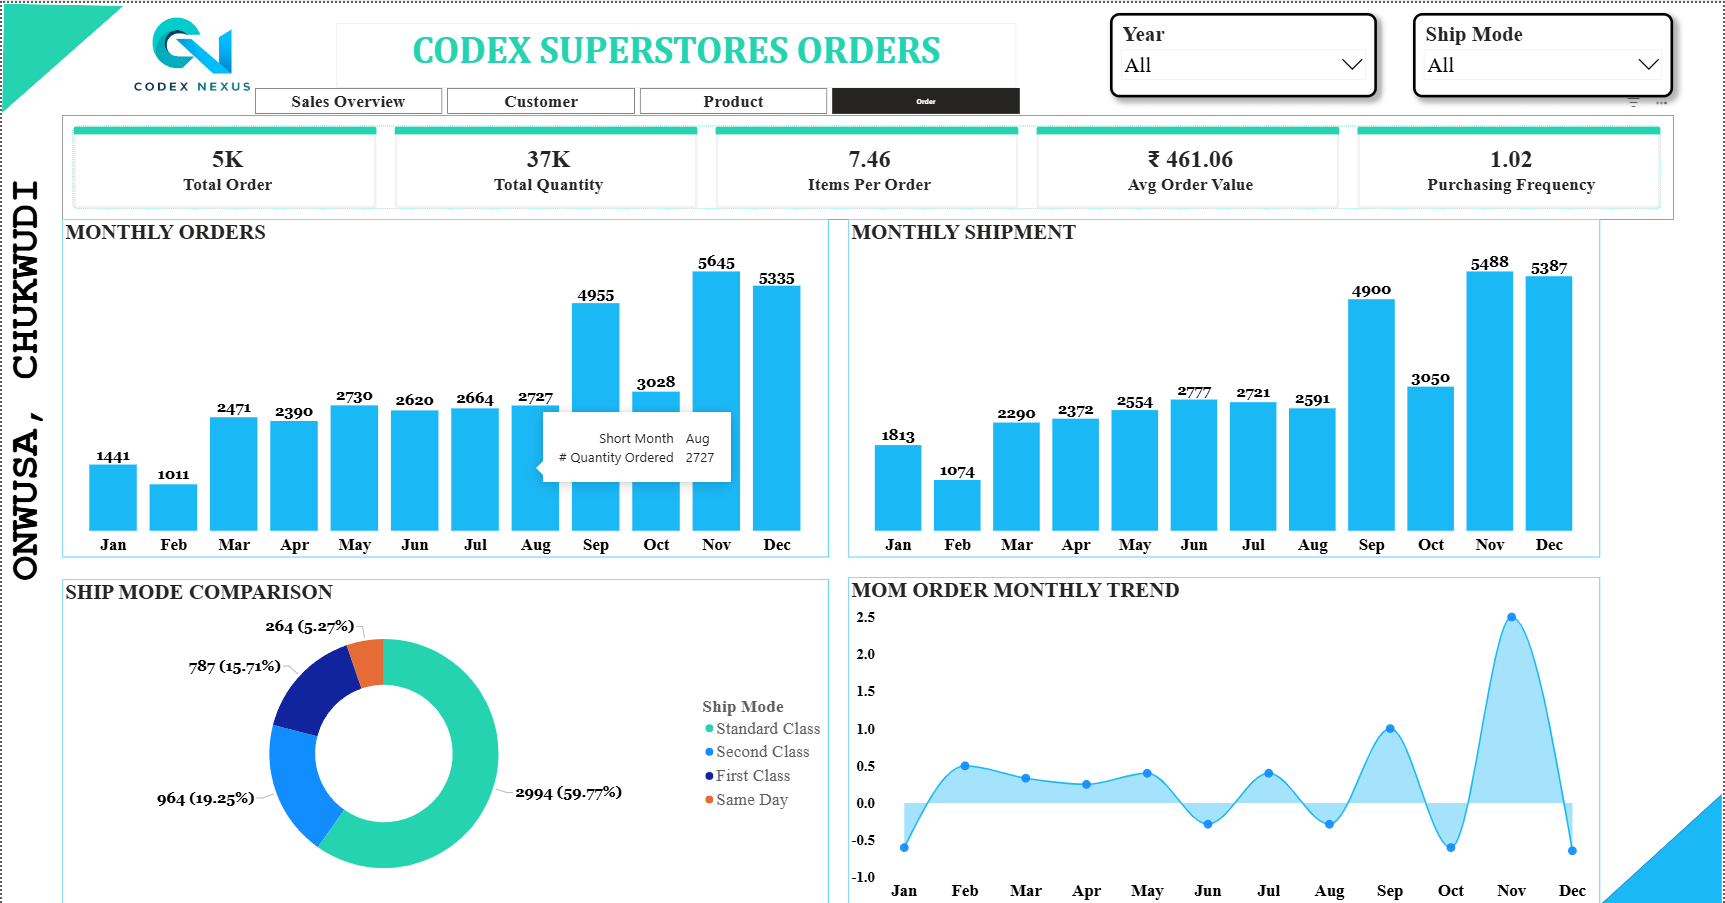

This screenshot's page, from the dashboard's own definition file:
{"tool":"powerbi","page":{"name":"Order","canvas":[3280,1720],"ordinal":3},"visuals":[{"type":"shape","box":[0,0,232.2,211.3],"z":0},{"type":"shape","box":[3047.8,1509,232.2,211.3],"z":1000},{"type":"shape","box":[0,199.4,87.2,1034.3],"z":2000},{"type":"textbox","box":[636.1,37.2,1297.1,124.1],"z":3000},{"type":"image","box":[232.2,0,250,199.4],"z":4000},{"type":"cardVisual","fields":{"Data":["My Measure.Total Order","My Measure.Total Quantity","My Measure.Items Per Order","My Measure.Avg Order Value","My Measure.Purchasing Frequency"]},"box":[114.6,213,3073,201],"z":5000},{"type":"clusteredColumnChart","title":"MONTHLY ORDERS","fields":{"Category":["Date Table.Short Month"],"Y":["My Measure.# Quantity Ordered"]},"box":[114.8,412.7,1461.6,645.4],"z":6000},{"type":"donutChart","title":"SHIP MODE COMPARISON","fields":{"Category":["dimOrder.Ship Mode"],"Y":["CountNonNull(dimOrder.Ship Mode)"]},"box":[114.8,1098.5,1461.6,620.6],"z":7000},{"type":"slicer","fields":{"Values":["Date Table.Year"]},"box":[2113.2,18.6,508.9,161.4],"z":8000},{"type":"clusteredColumnChart","title":"MONTHLY SHIPMENT","fields":{"Y":["My Measure.# Quantity Shipped"],"Category":["Shipping Date.Short Month"]},"box":[1613.6,412.7,1433.6,645.4],"z":9000},{"type":"slicer","fields":{"Values":["dimOrder.Ship Mode"]},"box":[2690.4,18.6,496.5,161.4],"z":10000},{"type":"lineChart","title":"MOM ORDER MONTHLY TREND","fields":{"Category":["Date Table.Short Month"],"Y":["My Measure.MOM Order %"]},"box":[1613.6,1095.4,1433.6,623.7],"z":11000},{"type":"pageNavigator","box":[482.4,162.1,1458.8,49.6],"z":12000}]}

Visuals, with their boxes in screenshot pixels (x1, y1, x2, y2), scaled from the page's 3280x1720 canvas onto the 1725x903 screenshot:
shape: (left=0, top=0, right=122, bottom=111)
shape: (left=1603, top=792, right=1724, bottom=902)
shape: (left=0, top=105, right=46, bottom=648)
textbox: (left=335, top=20, right=1017, bottom=85)
image: (left=122, top=0, right=254, bottom=105)
cardVisual - My Measure.Total Order x My Measure.Total Quantity: (left=60, top=112, right=1676, bottom=217)
"MONTHLY ORDERS" clusteredColumnChart: (left=60, top=217, right=829, bottom=556)
"SHIP MODE COMPARISON" donutChart: (left=60, top=577, right=829, bottom=902)
slicer - Date Table.Year: (left=1111, top=10, right=1379, bottom=94)
"MONTHLY SHIPMENT" clusteredColumnChart: (left=849, top=217, right=1603, bottom=556)
slicer - dimOrder.Ship Mode: (left=1415, top=10, right=1676, bottom=94)
"MOM ORDER MONTHLY TREND" lineChart: (left=849, top=575, right=1603, bottom=902)
pageNavigator: (left=254, top=85, right=1021, bottom=111)
